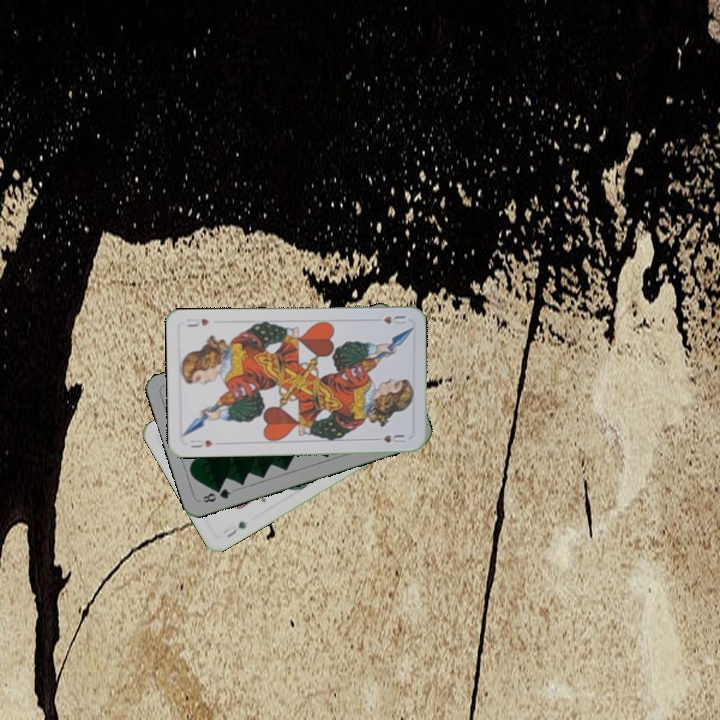G8: (198, 484, 234, 505)
GU: (223, 517, 249, 540)
HU: (186, 436, 215, 451), (379, 312, 408, 326)
